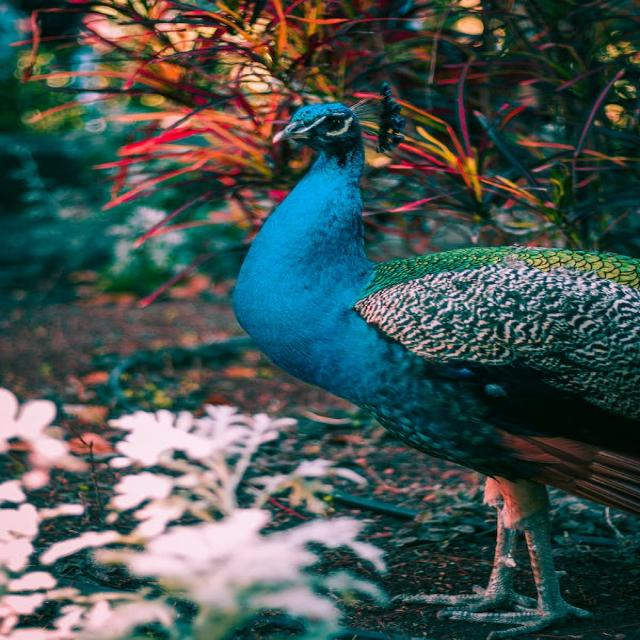peacock: (229, 77, 640, 640)
